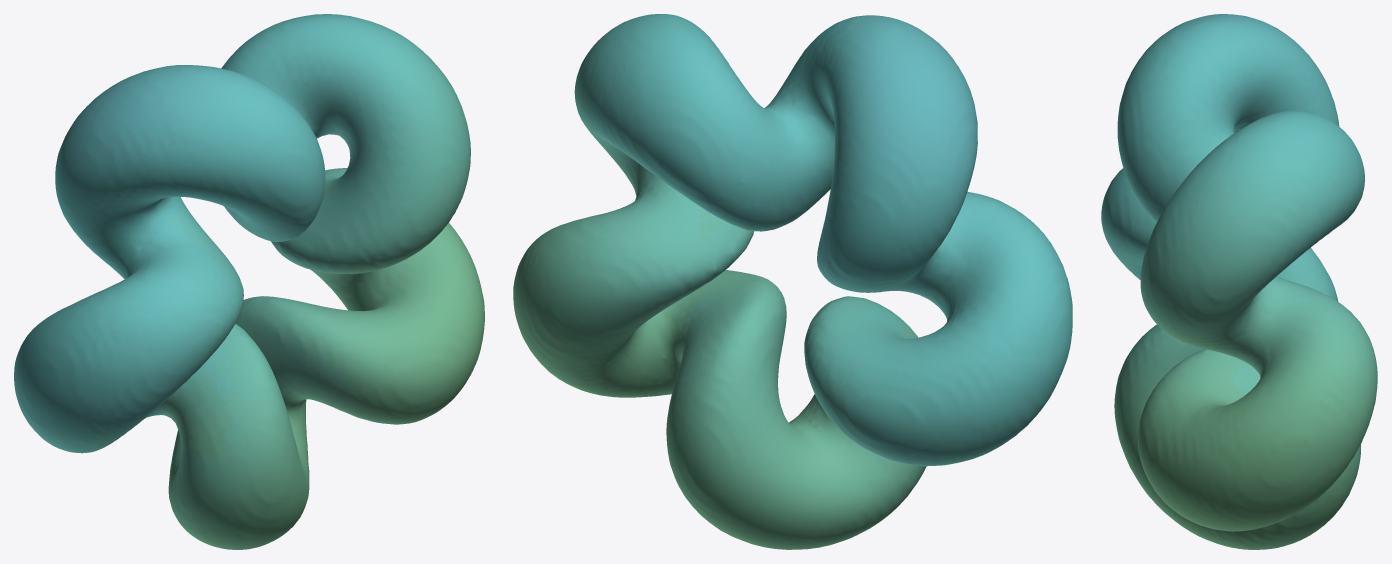
The model's file is 04_twistbud_static.glb.
3 renders of one model, left to right at view 1: azimuth 30°, elevation 25°; view 2: azimuth 150°, elevation 25°; view 3: azimuth 270°, elevation 25°, orthographic. The views are drawn at different scales.
Visible parts, largest first — view 1: 08; view 2: 08; view 3: 08.
Boxes of the visible parts, left/top/right/bottom form: 08: left=14, top=14, right=484, bottom=549; 08: left=513, top=14, right=1072, bottom=549; 08: left=1101, top=14, right=1377, bottom=549.
Bounding box in the file's own units: 0.1295 × 0.1292 × 0.0665.
Materials: 1 (1 with a texture image).
